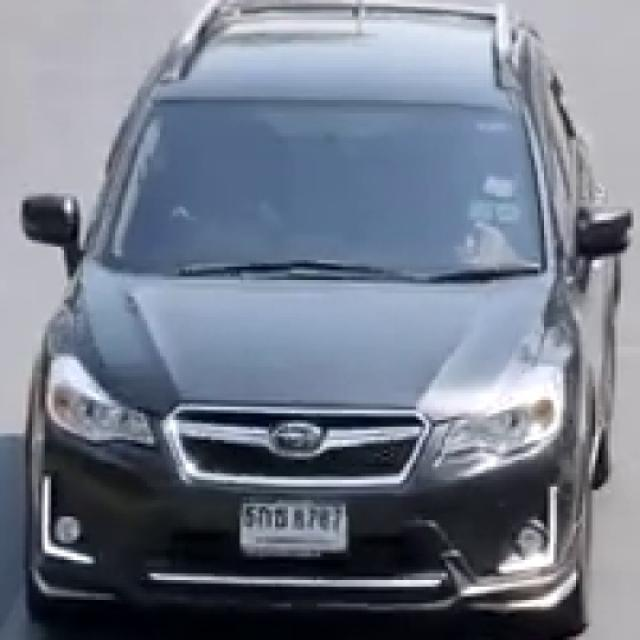plate: (242, 498, 348, 555)
